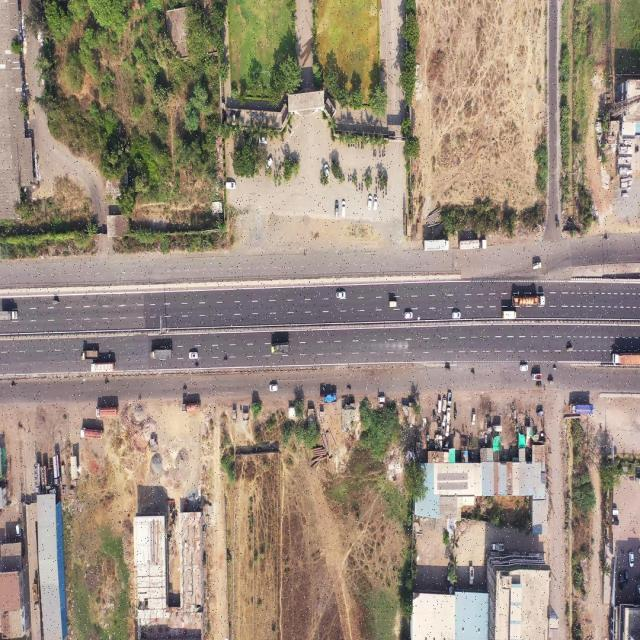3W: (492, 423, 502, 433), (536, 410, 544, 417), (548, 377, 554, 386), (555, 220, 560, 230), (536, 382, 542, 390), (52, 300, 59, 306), (445, 367, 451, 374), (567, 347, 573, 352)
Cars: (436, 398, 442, 414), (324, 164, 330, 179), (336, 290, 346, 299), (629, 550, 634, 568), (444, 422, 450, 436), (16, 524, 22, 538), (452, 310, 461, 319), (226, 182, 236, 190), (520, 362, 528, 372), (442, 396, 447, 412), (367, 195, 372, 210), (335, 201, 339, 219), (342, 200, 346, 218), (189, 352, 198, 360), (270, 383, 278, 392), (619, 572, 623, 590), (624, 570, 629, 584), (471, 412, 476, 425), (404, 312, 413, 319), (612, 508, 619, 517), (612, 518, 619, 526), (373, 197, 377, 210), (378, 397, 385, 402)
LCV: (502, 310, 517, 320), (491, 542, 505, 552), (469, 565, 474, 585), (531, 373, 543, 381), (532, 262, 542, 270), (389, 300, 398, 308), (448, 392, 452, 404)
M2W: (349, 172, 352, 182), (321, 386, 327, 391), (635, 145, 639, 152), (358, 182, 361, 191), (223, 357, 228, 362), (105, 380, 109, 386), (384, 148, 386, 158), (361, 140, 363, 150), (376, 175, 378, 185), (107, 353, 112, 357), (184, 386, 188, 391), (471, 370, 475, 375), (347, 386, 352, 390), (379, 150, 381, 159), (385, 187, 387, 196), (361, 183, 363, 192), (356, 184, 358, 193), (348, 173, 350, 182), (195, 362, 198, 368), (382, 149, 384, 157), (374, 149, 376, 157), (373, 149, 375, 157), (376, 186, 378, 194), (342, 174, 344, 182), (604, 237, 608, 241), (358, 142, 360, 149), (362, 175, 364, 182), (274, 170, 276, 177), (380, 144, 382, 150), (353, 143, 355, 149), (553, 367, 557, 370), (383, 191, 384, 198), (378, 181, 379, 188), (352, 175, 353, 182)
MAV: (512, 294, 546, 307), (611, 352, 640, 365), (424, 239, 449, 252), (459, 239, 487, 250), (96, 406, 117, 419), (70, 457, 79, 485), (53, 455, 61, 486), (182, 400, 201, 413), (91, 362, 116, 371), (33, 462, 40, 494), (0, 311, 18, 321), (33, 583, 39, 613)
Truck: (568, 404, 593, 414), (151, 349, 173, 360), (271, 343, 290, 355), (81, 350, 99, 360), (320, 393, 338, 403)
